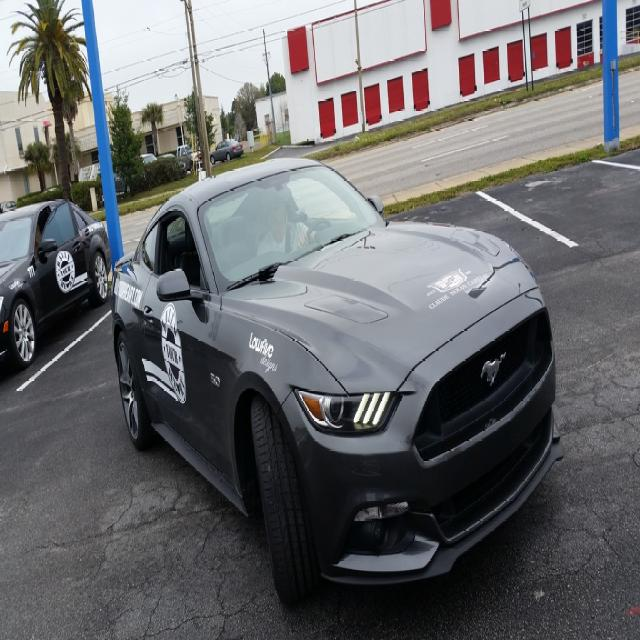car: (109, 152, 566, 617)
